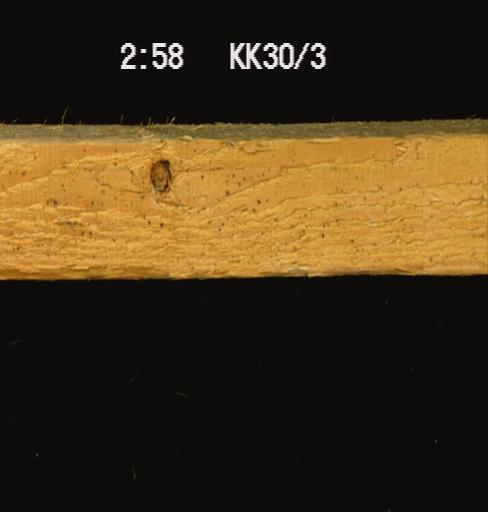wave: (0, 120, 484, 154), (260, 253, 485, 277), (1, 256, 169, 285)
